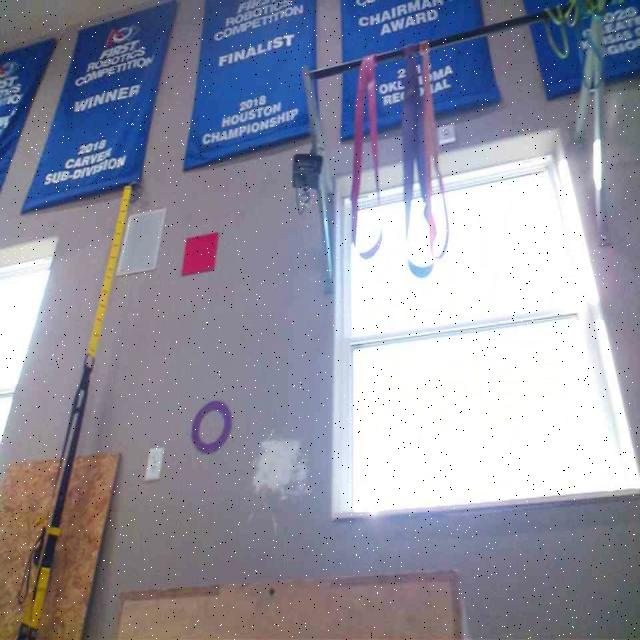ring_purple: (189, 398, 233, 453)
square_red: (180, 231, 219, 276)
